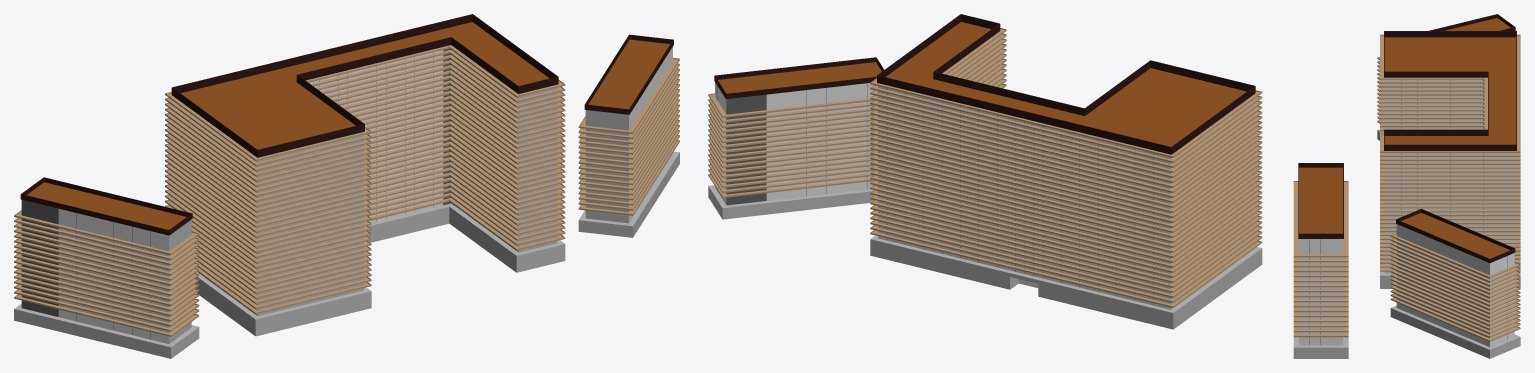
File: beach_hotel.glb
3 renders of one model, left to right at view 1: azimuth 30°, elevation 25°; view 2: azimuth 150°, elevation 25°; view 3: azimuth 270°, elevation 25°, orthographic. The views are drawn at different scales.
Visible parts, largest first — view 1: beach_hotel_VIS; view 2: beach_hotel_VIS; view 3: beach_hotel_VIS.
Part boxes in pixels (x1,y1,x2,y2): beach_hotel_VIS: (14,14,679,358); beach_hotel_VIS: (708,14,1348,358); beach_hotel_VIS: (1377,14,1520,358).
Size of the model in its own units: 676 by 180 by 164.
